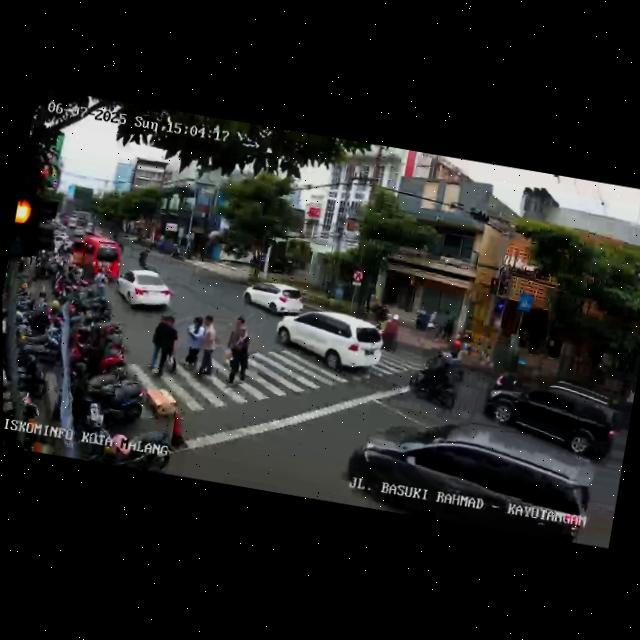car: (340, 398, 602, 546), (477, 367, 626, 461), (269, 299, 386, 382), (111, 265, 175, 318), (65, 232, 124, 282), (240, 275, 307, 317)
motorcycle: (402, 345, 470, 414), (377, 313, 404, 354), (136, 242, 154, 271)
person: (155, 315, 184, 379), (193, 314, 221, 378), (224, 327, 253, 386), (180, 314, 207, 369), (148, 313, 166, 369), (432, 308, 455, 344), (226, 314, 245, 351), (412, 304, 427, 331), (425, 308, 438, 332)
